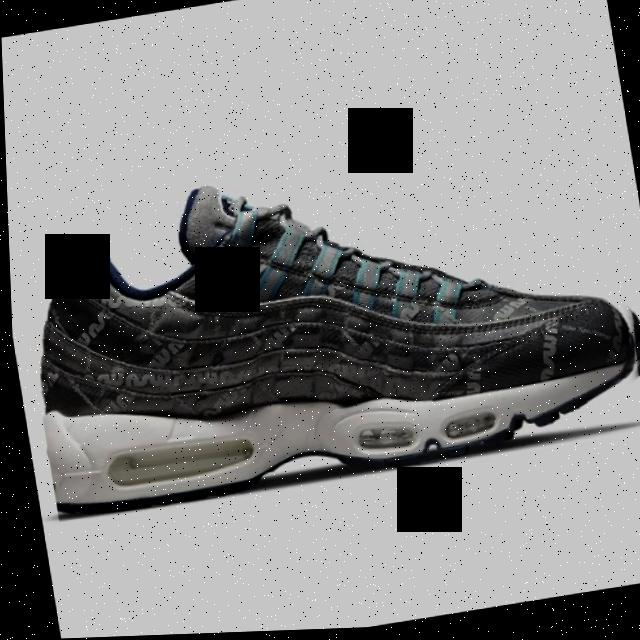shoe: (6, 121, 640, 522)
